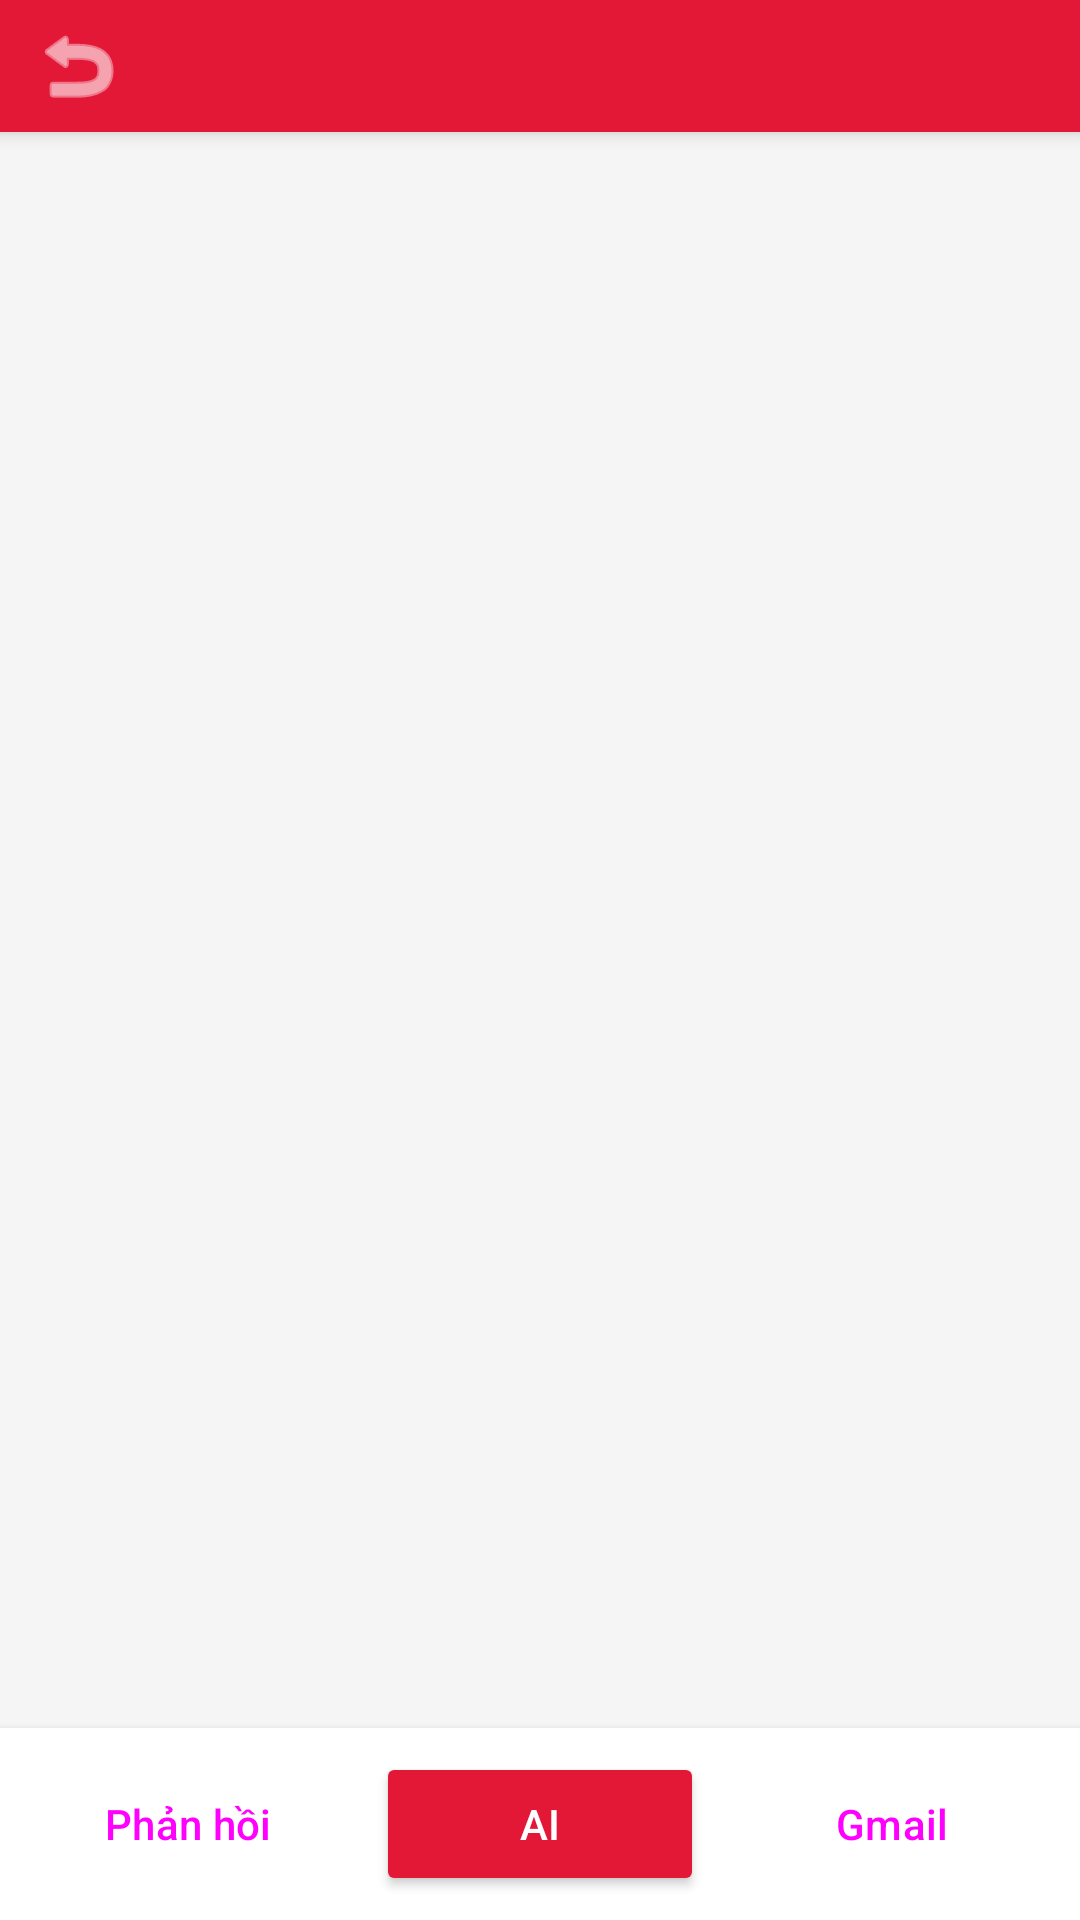

Icons on this 1080×1920 Android screen, each with the point to tap as (x=x, y=y):
Back: (x=79, y=66)
